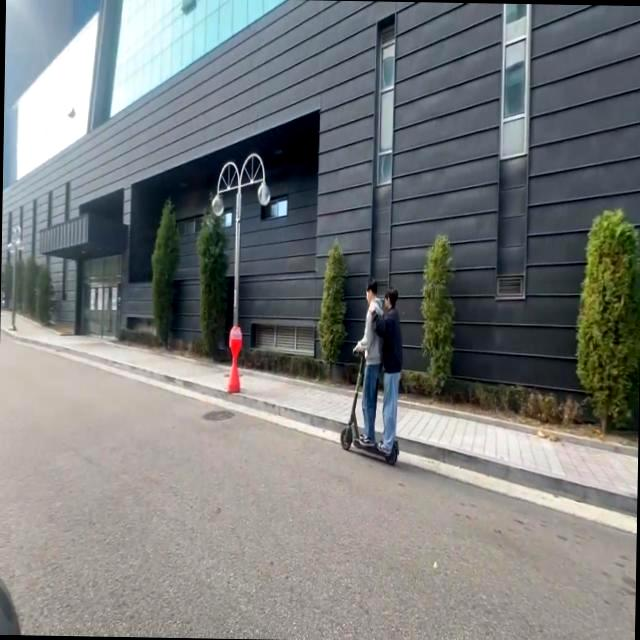bare_head: (377, 283, 402, 310), (360, 279, 379, 305)
human: (373, 285, 399, 457), (356, 281, 380, 449)
kickboard: (333, 421, 404, 468)
